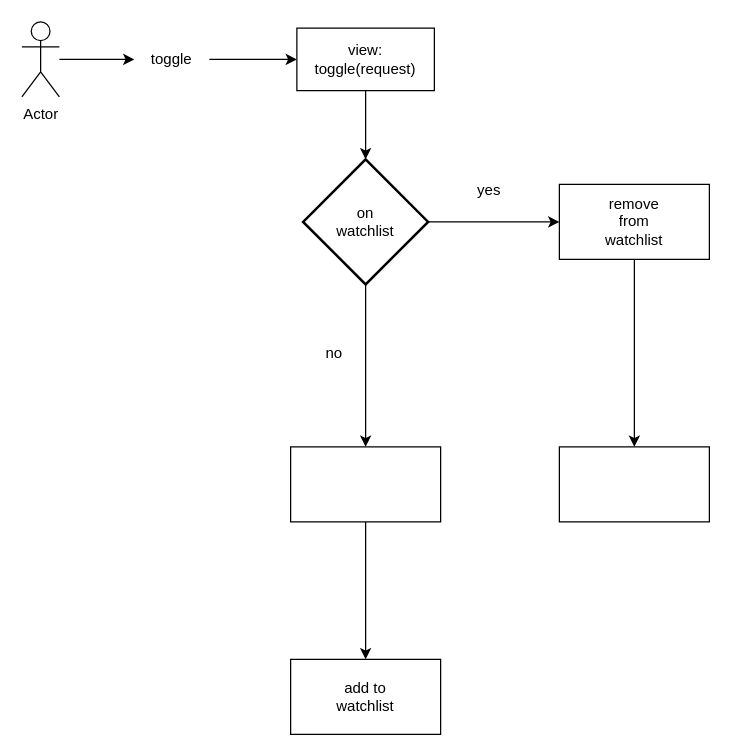
The diagram is 731 pixels wide and 756 high, and some of its shapes have lost their labels. Here are the shapes that lost their labels. From the top down, the centre of each, then its label:
At point (365, 484): "create Stellenangebot".
At point (633, 484): "mark Stellenangebot as orphaned".
